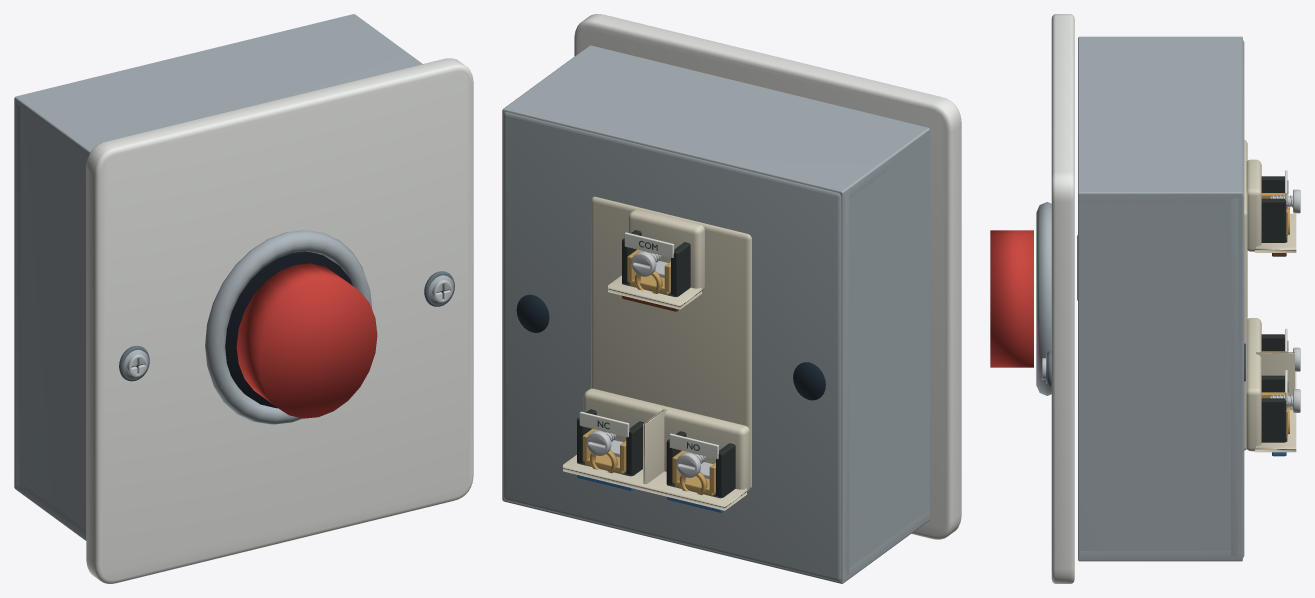
Rendered from pushbutton_stop-button.glb.
The picture shows the model from 3 angles, left to right: view 1: azimuth 30°, elevation 25°; view 2: azimuth 150°, elevation 25°; view 3: azimuth 270°, elevation 25°; orthographic projection. The views are drawn at different scales.
Visible parts, largest first — view 1: part:cover, part:body · Original 2a8198d3, motion:push-cap, part:actuator, detail:faceplate-fixing · Detail zinc plated fixing, part:cover · Original 0905ee26; view 2: part:body · Original 2a8198d3, part:terminals · Original 5a609f27, part:cover, part:body · Original a463fd81, detail:terminal-clamp:NO · Detail moulded engineering polyme, detail:terminal-clamp:COM · Detail moulded engineering polym, detail:terminal-clamp:NC · Detail moulded engineering polyme, detail:terminal-clamp:NC · Detail machined brass, detail:terminal-clamp:COM · Detail machined brass, detail:terminal-clamp:NO · Detail machined brass, Moulded terminal legend pad.002, Moulded terminal legend pad.001 (+4 smaller); view 3: part:body · Original 2a8198d3, part:cover, part:terminals · Original 5a609f27, motion:push-cap, part:actuator, detail:terminal-clamp:NC · Detail moulded engineering polyme, detail:terminal-clamp:COM · Detail moulded engineering polym, detail:terminal-clamp:NO · Detail moulded engineering polyme.
Part boxes in pixels (x1,y1,x2,y2): part:cover: [86, 58, 473, 583]; part:body · Original 2a8198d3: [14, 14, 422, 540]; motion:push-cap: [236, 263, 377, 418]; part:actuator: [205, 230, 372, 424]; detail:faceplate-fixing · Detail zinc plated fixing: [127, 279, 452, 377]; part:cover · Original 0905ee26: [119, 271, 454, 381]; part:body · Original 2a8198d3: [502, 45, 929, 583]; part:terminals · Original 5a609f27: [563, 196, 751, 510]; part:cover: [574, 14, 961, 539]; part:body · Original a463fd81: [516, 294, 825, 400]; detail:terminal-clamp:NO · Detail moulded engineering polyme: [666, 431, 735, 498]; detail:terminal-clamp:COM · Detail moulded engineering polym: [622, 230, 690, 297]; detail:terminal-clamp:NC · Detail moulded engineering polyme: [577, 409, 644, 476]; detail:terminal-clamp:NC · Detail machined brass: [582, 429, 626, 473]; detail:terminal-clamp:COM · Detail machined brass: [627, 249, 670, 294]; detail:terminal-clamp:NO · Detail machined brass: [672, 450, 715, 495]; Moulded terminal legend pad.002: [579, 411, 629, 437]; Moulded terminal legend pad.001: [669, 433, 718, 459]; part:body · Original 2a8198d3: [1078, 36, 1244, 561]; part:cover: [1051, 14, 1074, 583]; part:terminals · Original 5a609f27: [1244, 139, 1296, 452]; motion:push-cap: [990, 230, 1033, 367]; part:actuator: [1036, 202, 1051, 395]; detail:terminal-clamp:NC · Detail moulded engineering polyme: [1261, 375, 1287, 442]; detail:terminal-clamp:COM · Detail moulded engineering polym: [1261, 176, 1287, 242]; detail:terminal-clamp:NO · Detail moulded engineering polyme: [1261, 334, 1284, 351].
Bounding box in the file's own units: 0.8918 × 0.9813 × 0.6726.
